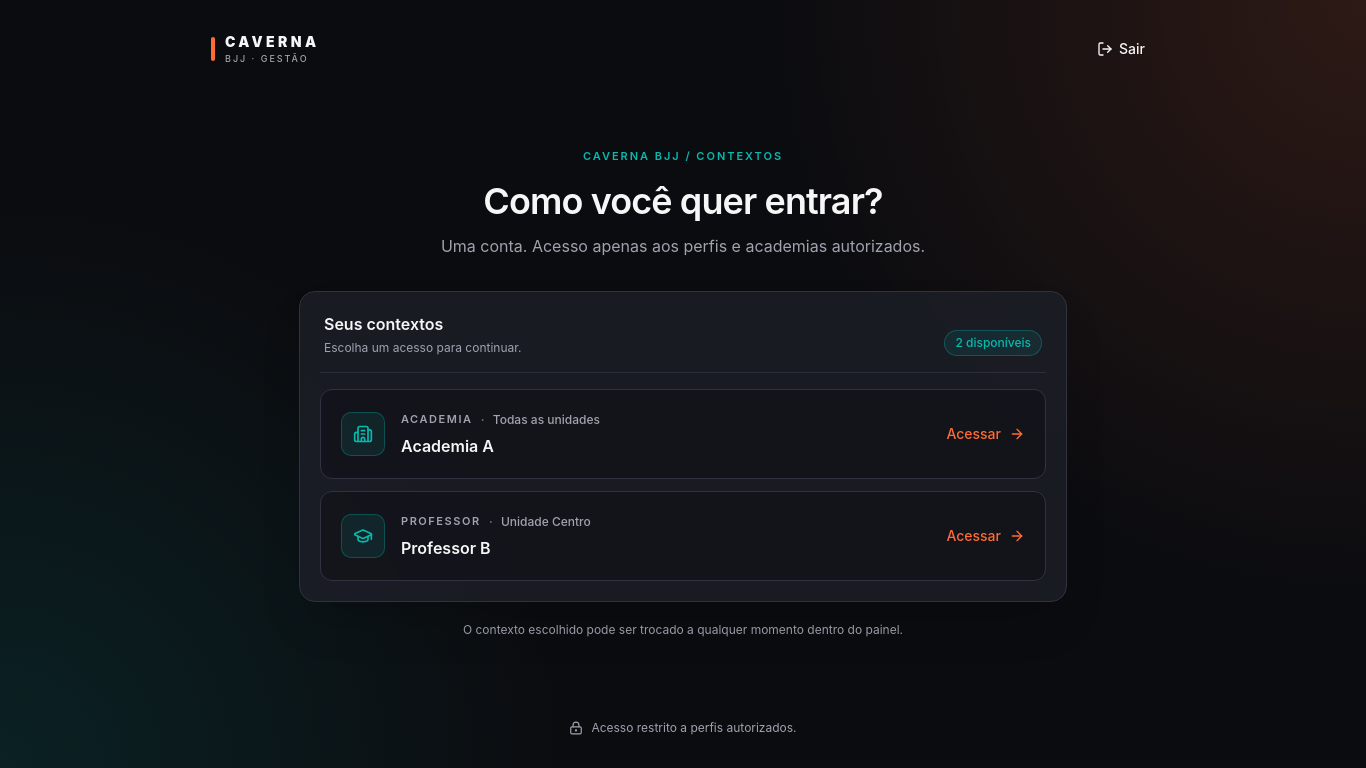
Test: ContextSelectionPage › shows a safe error and keeps the selection screen when the switch fails
The width and height of the screenshot is (1366, 768).
Step 1. Click the button with aria-label "Selecionar Academia A" → click(363, 434), box [320,388,1046,478]
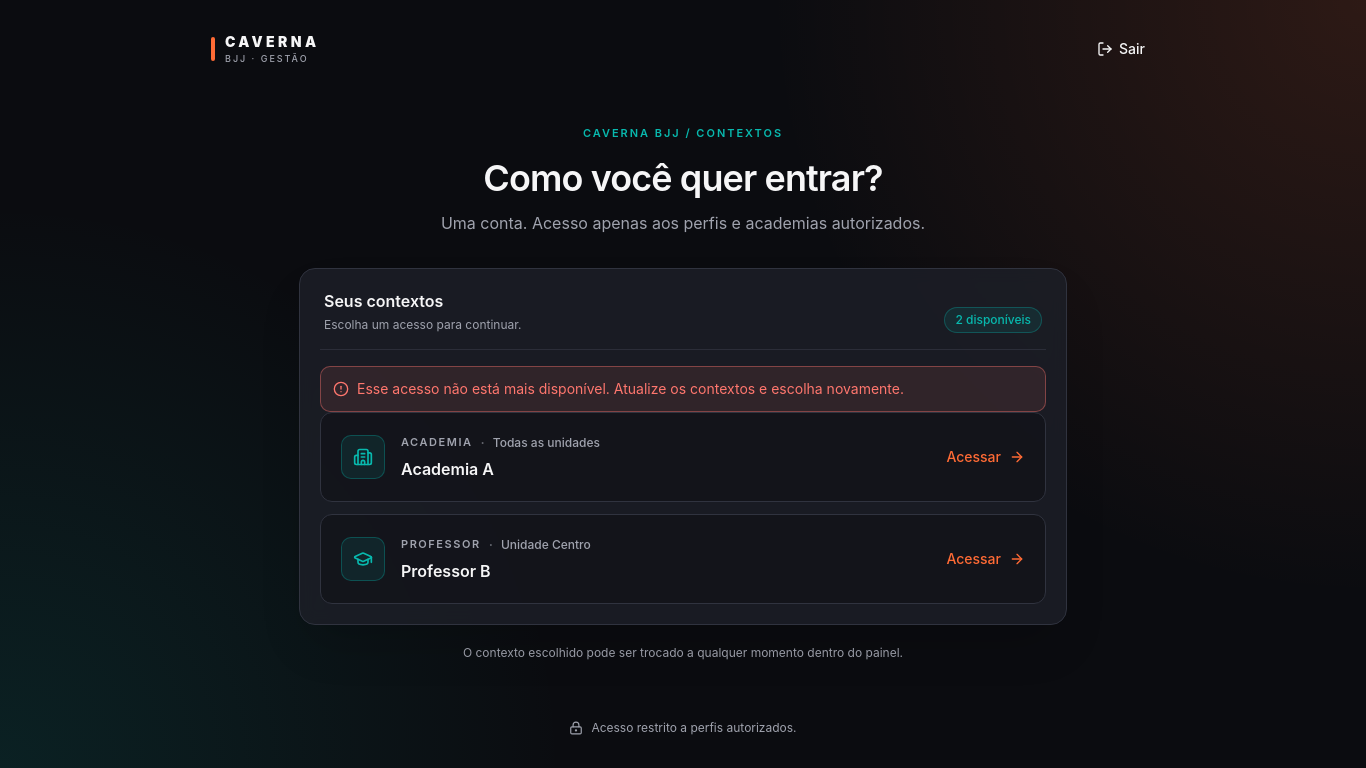
Expected: the heading "Como você quer entrar?" is shown, [483,156,883,200]
Result: the message reads "Esse acesso não está mais disponível. Atualize os contextos e escolha novamente." at [357,380,904,396]
